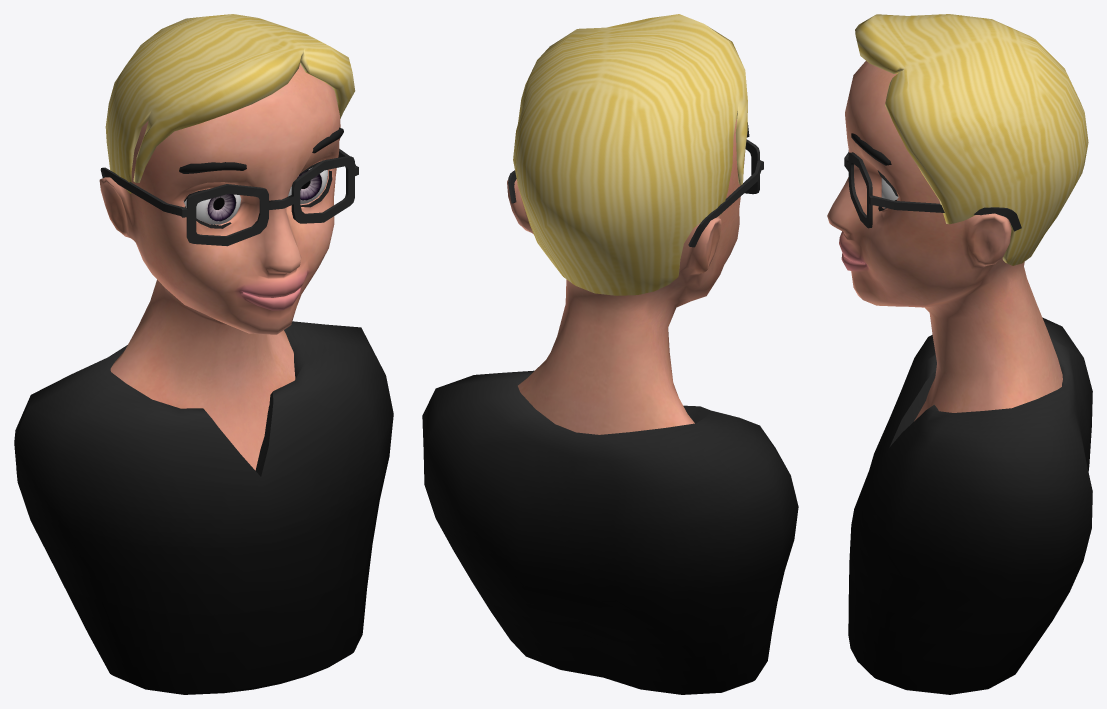
Rendered from male1.glb.
The picture shows the model from 3 angles, left to right: view 1: azimuth 30°, elevation 25°; view 2: azimuth 150°, elevation 25°; view 3: azimuth 270°, elevation 25°; orthographic projection.
Parts seen in each view (by area): view 1: programmer_male; view 2: programmer_male; view 3: programmer_male.
Boxes of the visible parts, x1,y1,x2,y2 form: programmer_male: (14, 14, 393, 694); programmer_male: (422, 14, 798, 694); programmer_male: (827, 14, 1092, 694).
Bounding box in the file's own units: 0.3249 × 0.5306 × 0.2091.
1 material, 1 textured.
